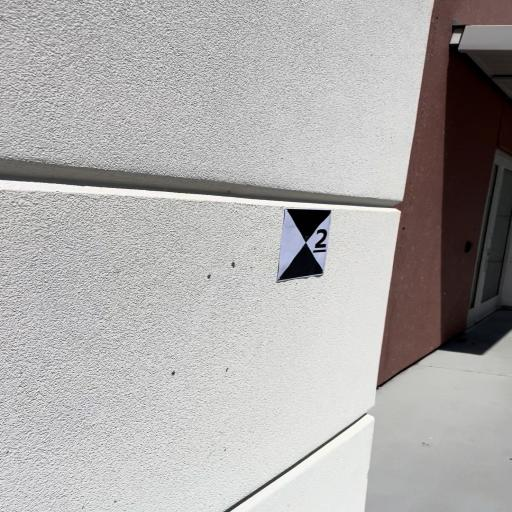target2: (273, 208, 332, 282)
